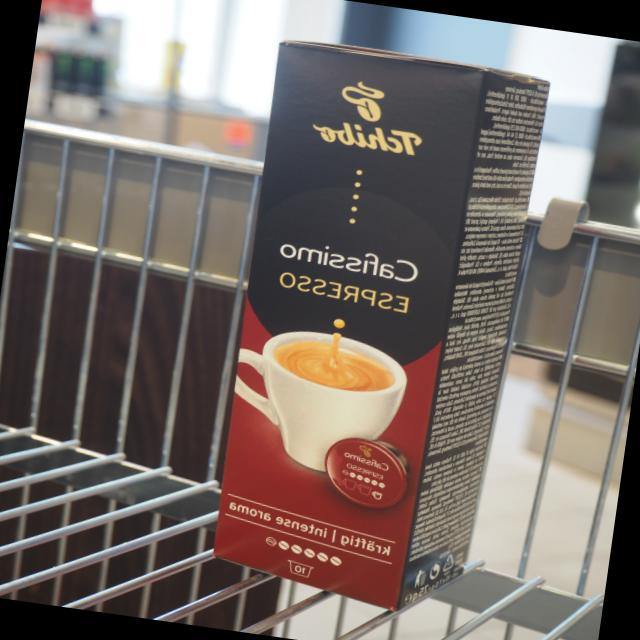Simo Es Kraft: (208, 35, 488, 616)
